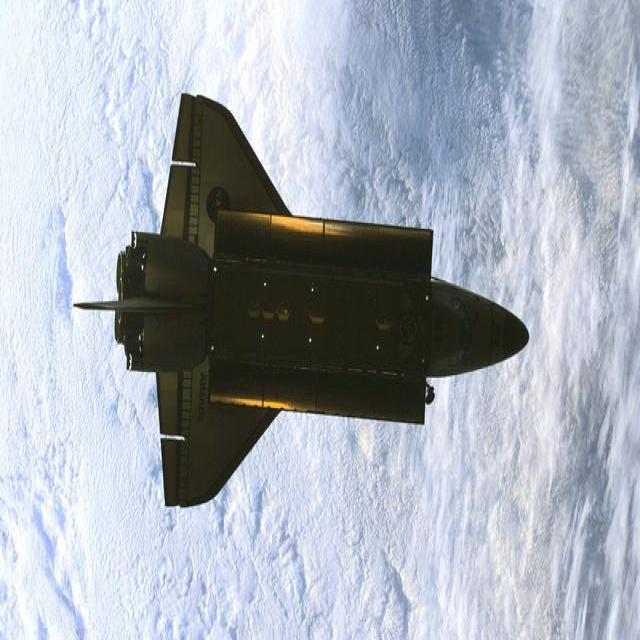satellite: (78, 94, 529, 505)
